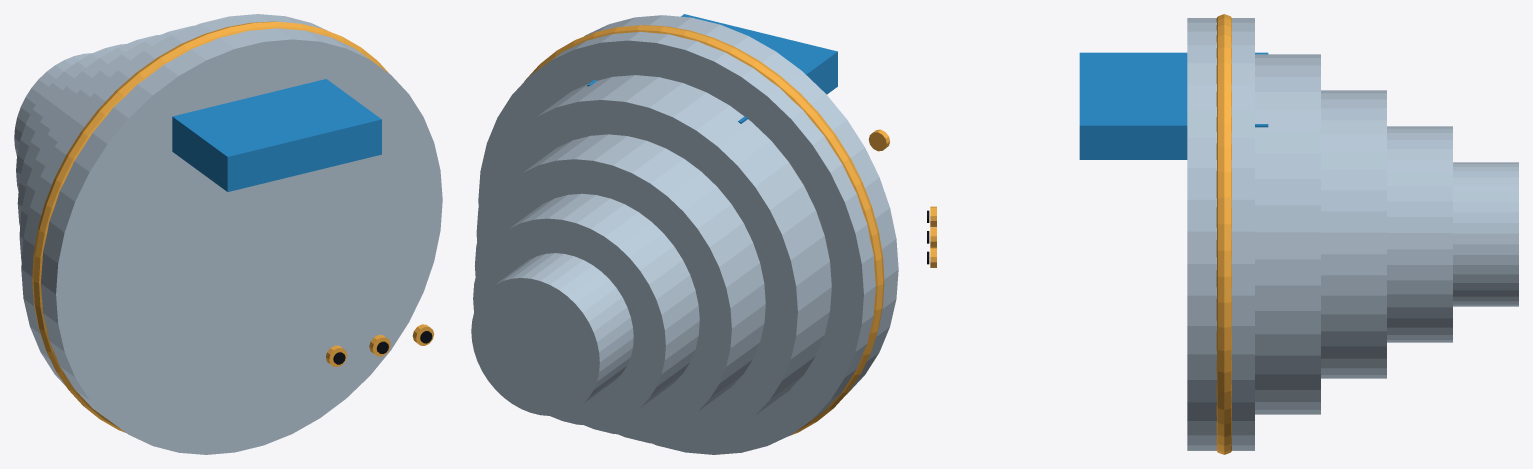
File: 17_L90_Aurora1ForwardAvionicsNose.fbx
The picture shows the model from 3 angles, left to right: view 1: azimuth 30°, elevation 25°; view 2: azimuth 150°, elevation 25°; view 3: azimuth 270°, elevation 25°; orthographic projection. The views are drawn at different scales.
Parts seen in each view (by area): view 1: L90_Aurora1ForwardAvionicsNose, L90_Aurora1ForwardAvionicsNose_Part_0002; view 2: L90_Aurora1ForwardAvionicsNose, L90_Aurora1ForwardAvionicsNose_Part_0002; view 3: L90_Aurora1ForwardAvionicsNose, L90_Aurora1ForwardAvionicsNose_Part_0002.
Boxes of the visible parts, x1,y1,x2,y2 form: L90_Aurora1ForwardAvionicsNose: (14,14,442,454); L90_Aurora1ForwardAvionicsNose_Part_0002: (172,79,381,191); L90_Aurora1ForwardAvionicsNose: (471,15,898,454); L90_Aurora1ForwardAvionicsNose_Part_0002: (587,14,837,123); L90_Aurora1ForwardAvionicsNose: (1187,14,1518,454); L90_Aurora1ForwardAvionicsNose_Part_0002: (1079,52,1268,159).
Size of the model in its own units: 281 by 281 by 377.
